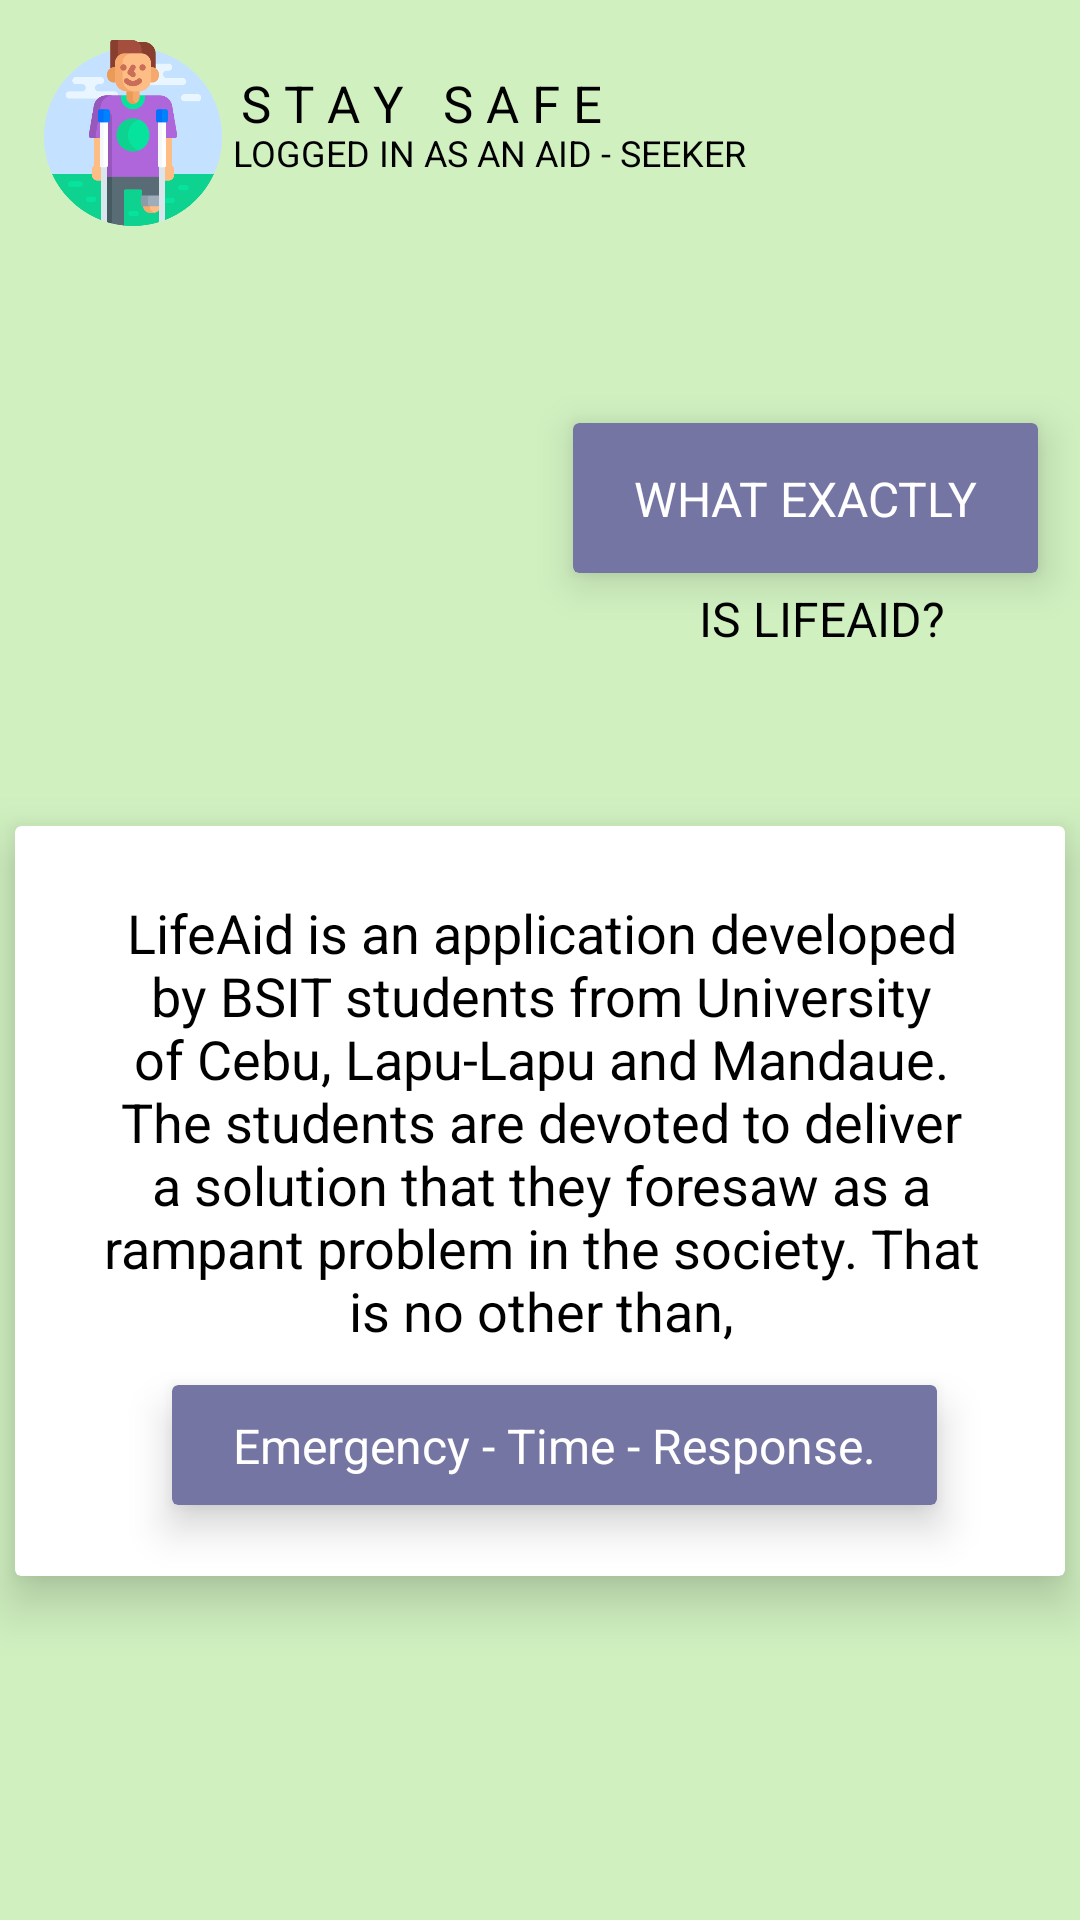

Screen size 1080 x 1920. Icon name, then its center in pixels as point (x, y):
amputee: point (133, 133)
